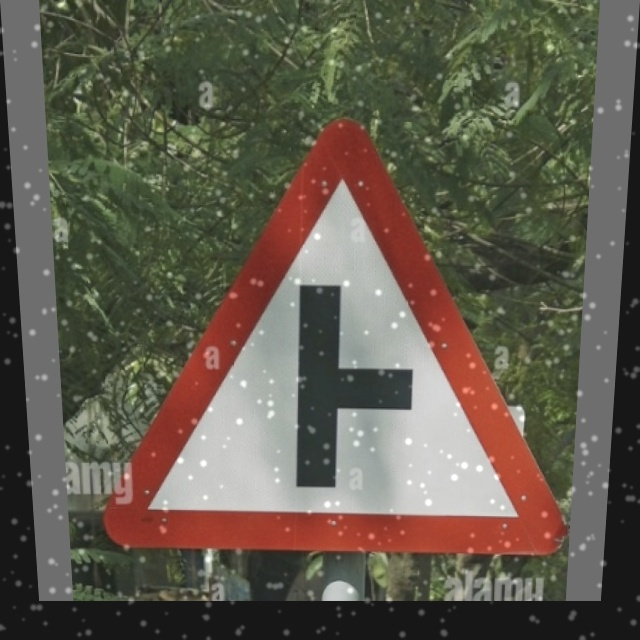Side_Road_Right: (108, 103, 573, 549)
